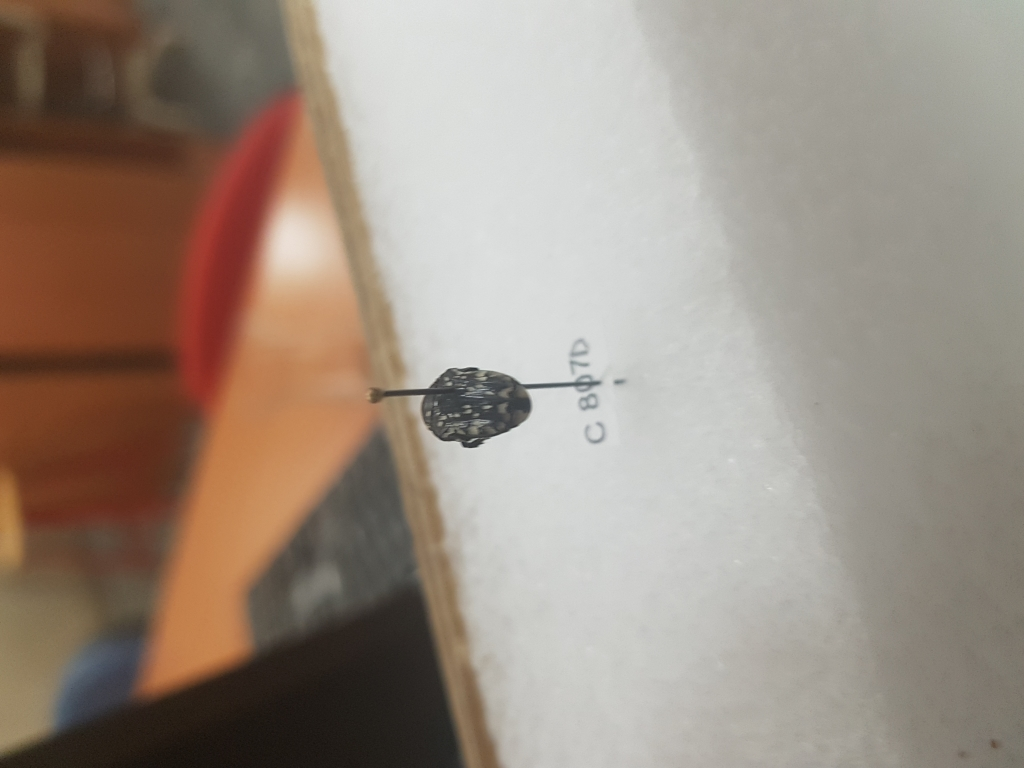Oxythyrea_albopicta: (418, 364, 533, 450)
